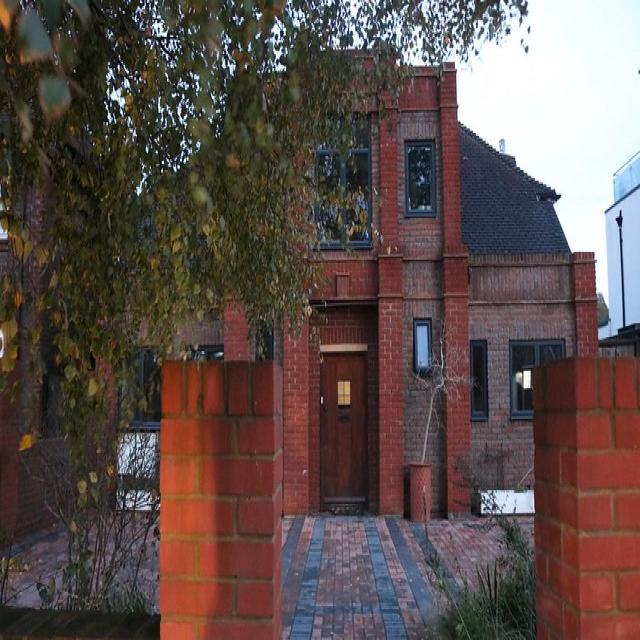Normal_building: (93, 41, 608, 534)
